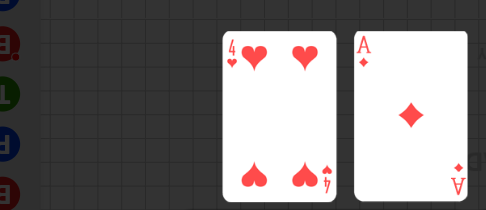4H: (226, 38, 240, 70)
AD: (448, 160, 466, 196)
